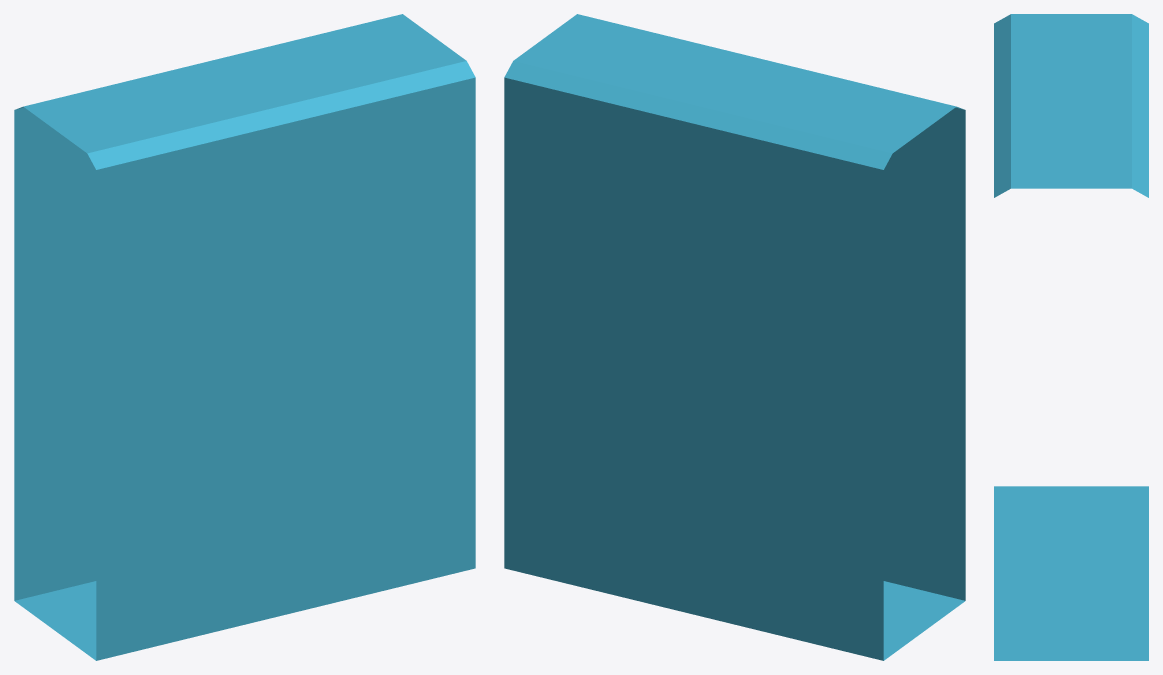
File: Itr_Couch_Outside_Back_Middle_05.FBX
3 renders of one model, left to right at view 1: azimuth 30°, elevation 25°; view 2: azimuth 150°, elevation 25°; view 3: azimuth 270°, elevation 25°, orthographic. The views are drawn at different scales.
Parts seen in each view (by area): view 1: Itr_Couch_Outside_Back_Middle_05; view 2: Itr_Couch_Outside_Back_Middle_05; view 3: Itr_Couch_Outside_Back_Middle_05.
Part boxes in pixels (x1,y1,x2,y2): Itr_Couch_Outside_Back_Middle_05: (14,14,475,660); Itr_Couch_Outside_Back_Middle_05: (504,14,965,660); Itr_Couch_Outside_Back_Middle_05: (994,14,1148,660).
Bounding box in the file's own units: 19.21 × 24.24 × 7.19.
